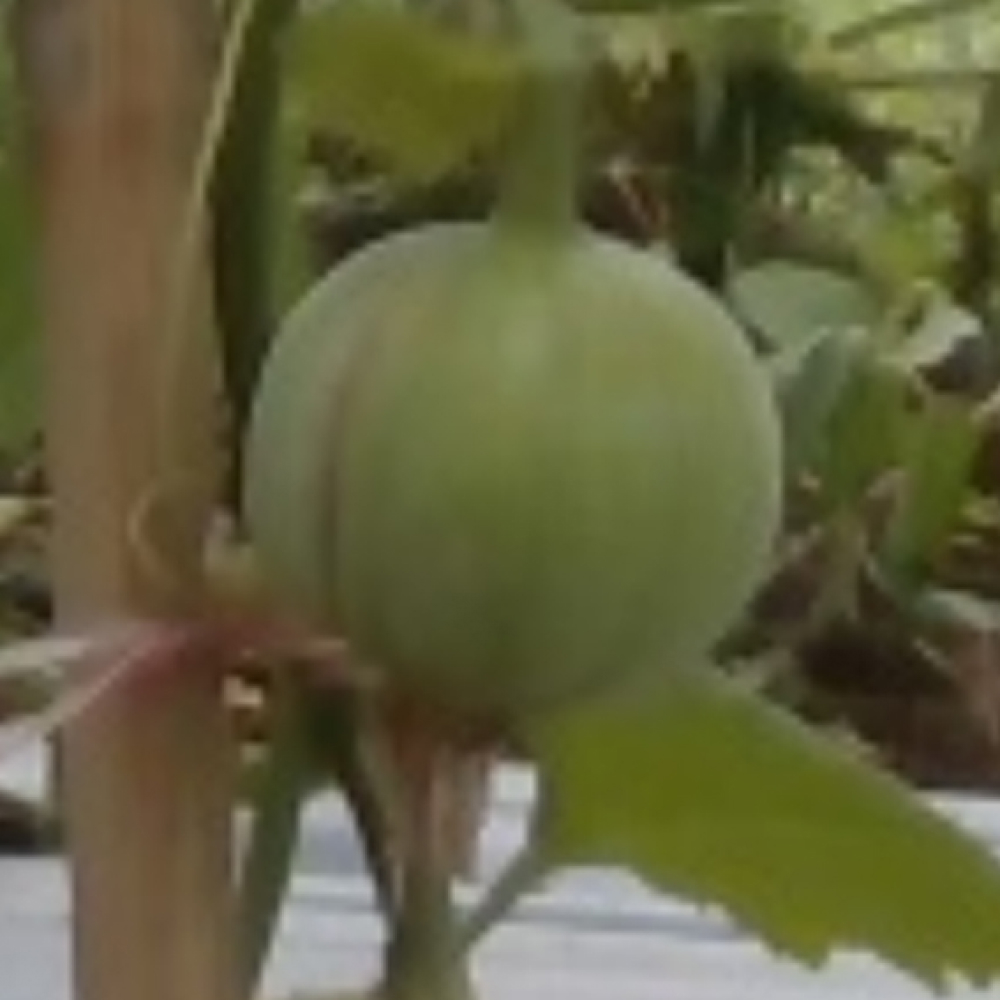melon: (230, 218, 791, 737)
